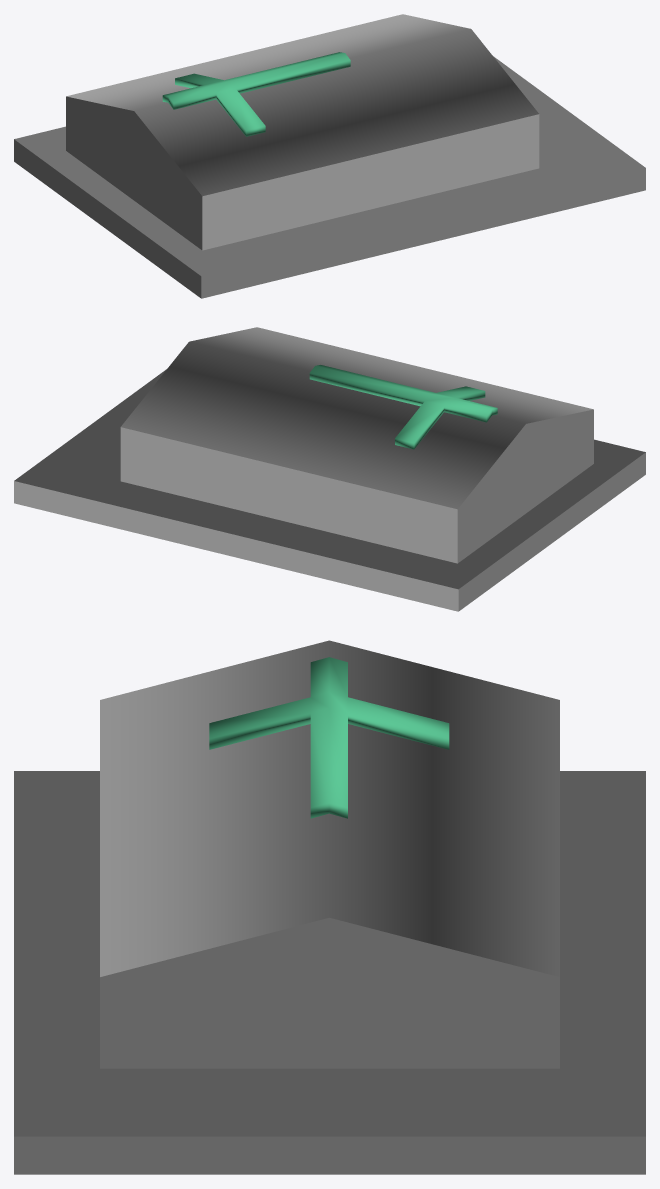
Rendered from tomb2_resized_uvs.fbx.
The picture shows the model from 3 angles, top to bottom: view 1: azimuth 30°, elevation 25°; view 2: azimuth 150°, elevation 25°; view 3: azimuth 270°, elevation 25°; orthographic projection. The views are drawn at different scales.
Parts seen in each view (by area): view 1: Tombe2:pCube2, Tombe2:pCube3, Tombe2:Box001; view 2: Tombe2:pCube2, Tombe2:pCube3, Tombe2:Box001; view 3: Tombe2:pCube2, Tombe2:pCube3, Tombe2:Box001.
Boxes of the visible parts, bbox=[...] form: Tombe2:pCube2: bbox=[66, 14, 539, 250]; Tombe2:pCube3: bbox=[14, 56, 645, 298]; Tombe2:Box001: bbox=[162, 52, 350, 136]; Tombe2:pCube2: bbox=[120, 327, 593, 563]; Tombe2:pCube3: bbox=[14, 369, 645, 611]; Tombe2:Box001: bbox=[309, 365, 497, 449]; Tombe2:pCube2: bbox=[100, 640, 559, 1068]; Tombe2:pCube3: bbox=[14, 771, 645, 1174]; Tombe2:Box001: bbox=[209, 657, 449, 818].
Size of the model in its own units: 659 by 169 by 481.
